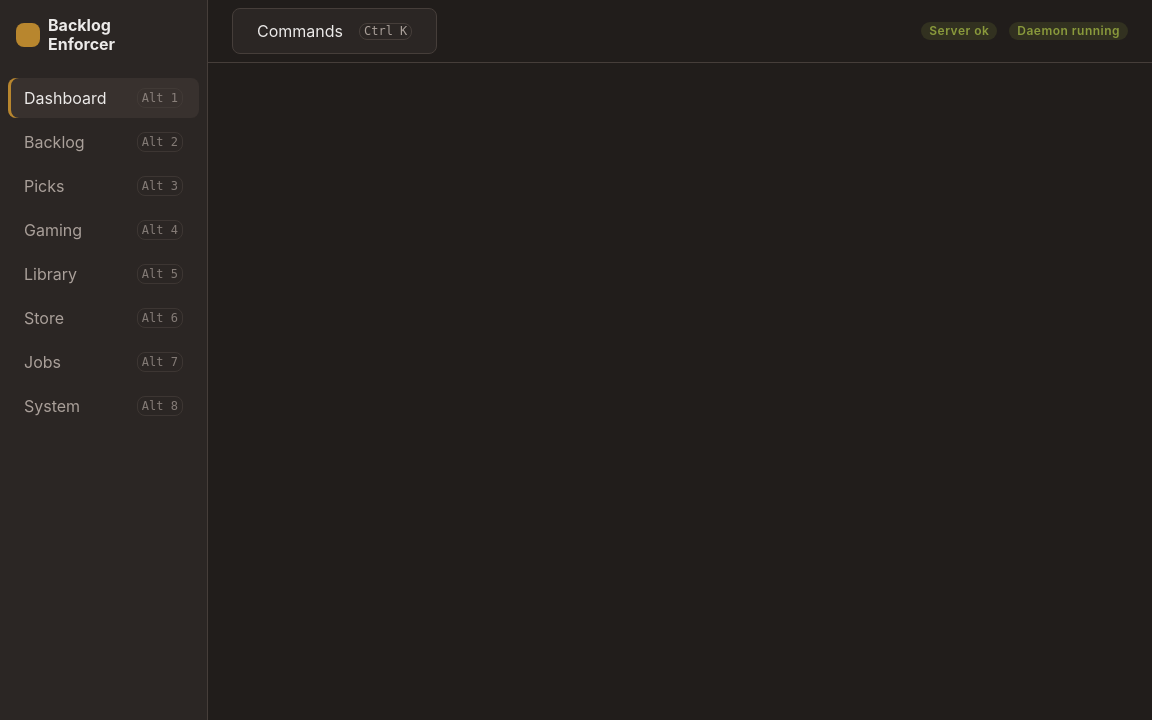
Test: AppShell › opens the palette from the top bar
The width and height of the screenshot is (1152, 720).
Click the button "Commands Ctrl K". click: (335, 31)
box: [232,8,437,54]
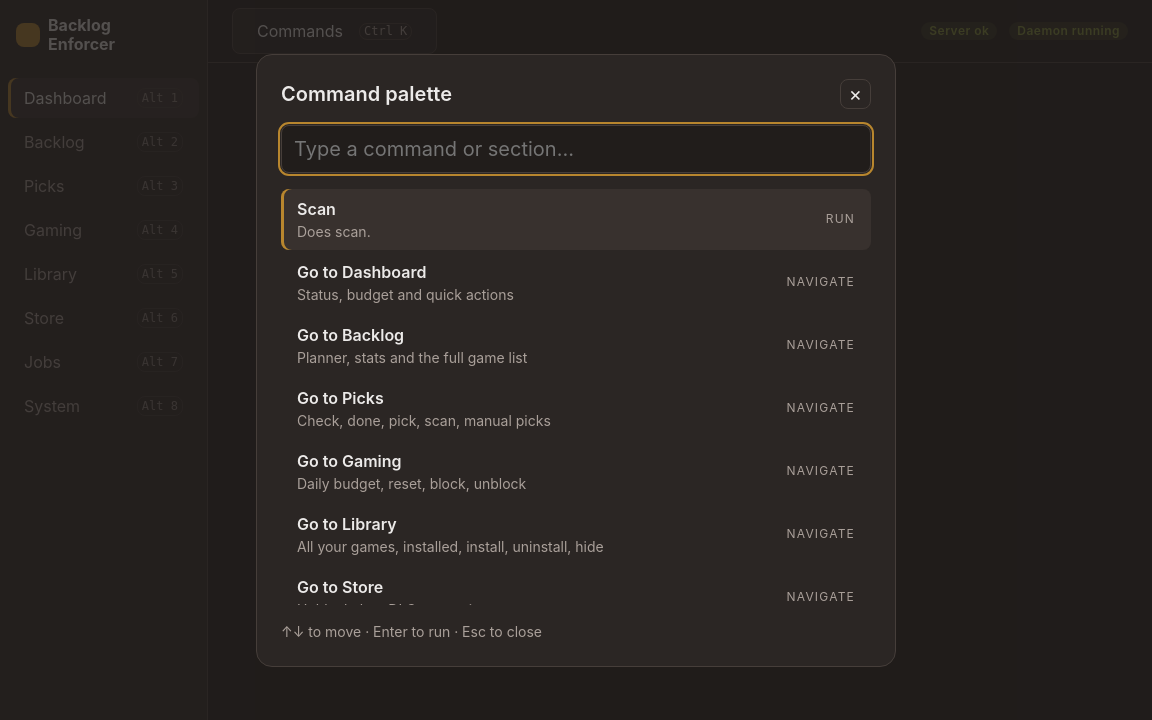
Result: the dialog "Command palette" is shown at [256,54,896,666]
